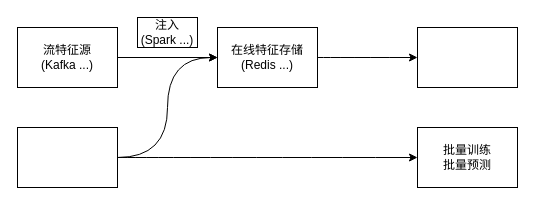
Some shapes in this 535 by 205 pixel diagram are drawn without their labels. The shapes that lost their labels are listed below. From the top down, each one's box as (x1, y1, x2, y2) in pixels, then its label:
(416, 26, 518, 88): 在线推理
(16, 126, 118, 188): 批特征源 (S3, HDFS, ...)
